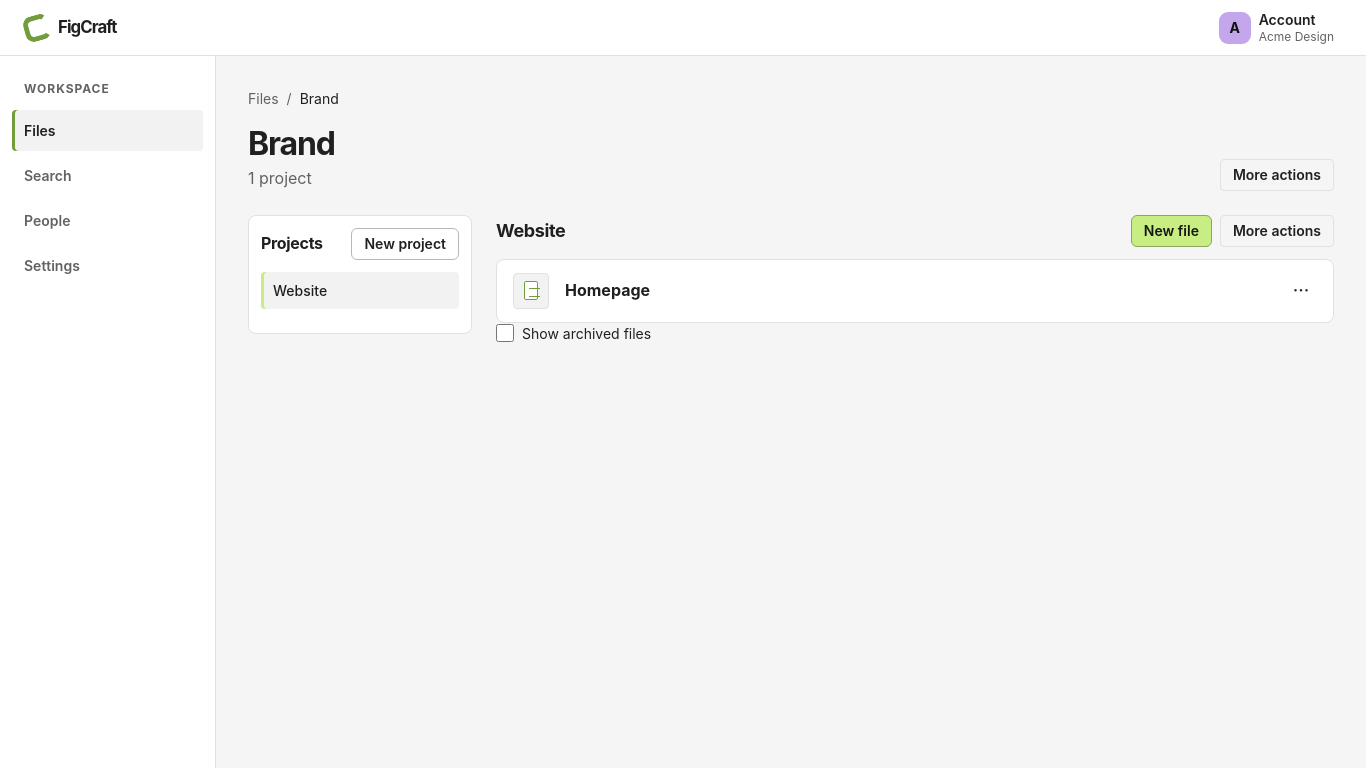
Scenario: workspace page › shows projects and the files of the first one, with actions for an administrator
Expected: the heading "Brand" is shown, [248,125,339,163]
Click the heading named "More actions for Homepage" at (1301, 290), box [1293,278,1309,302]
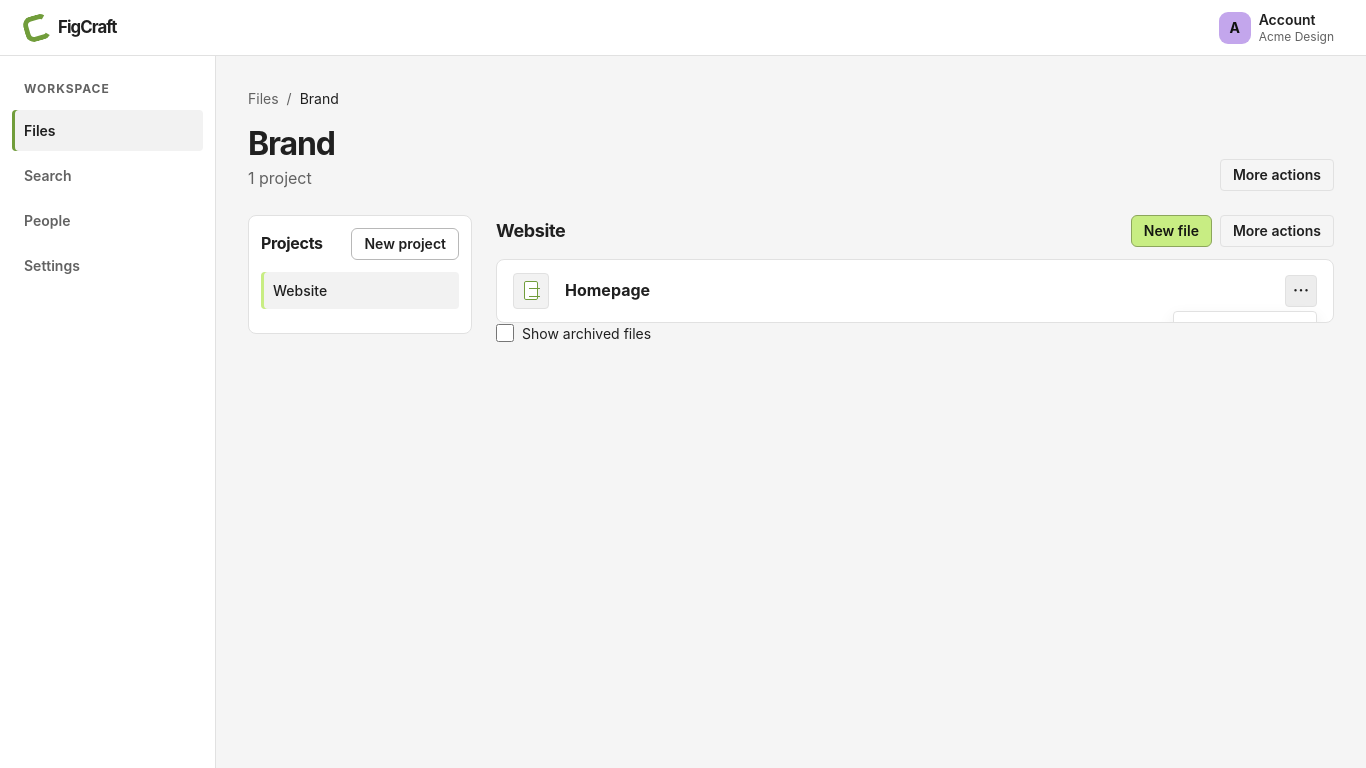
Click the heading named "Workspace actions" at (1277, 175), box [1220,159,1334,191]
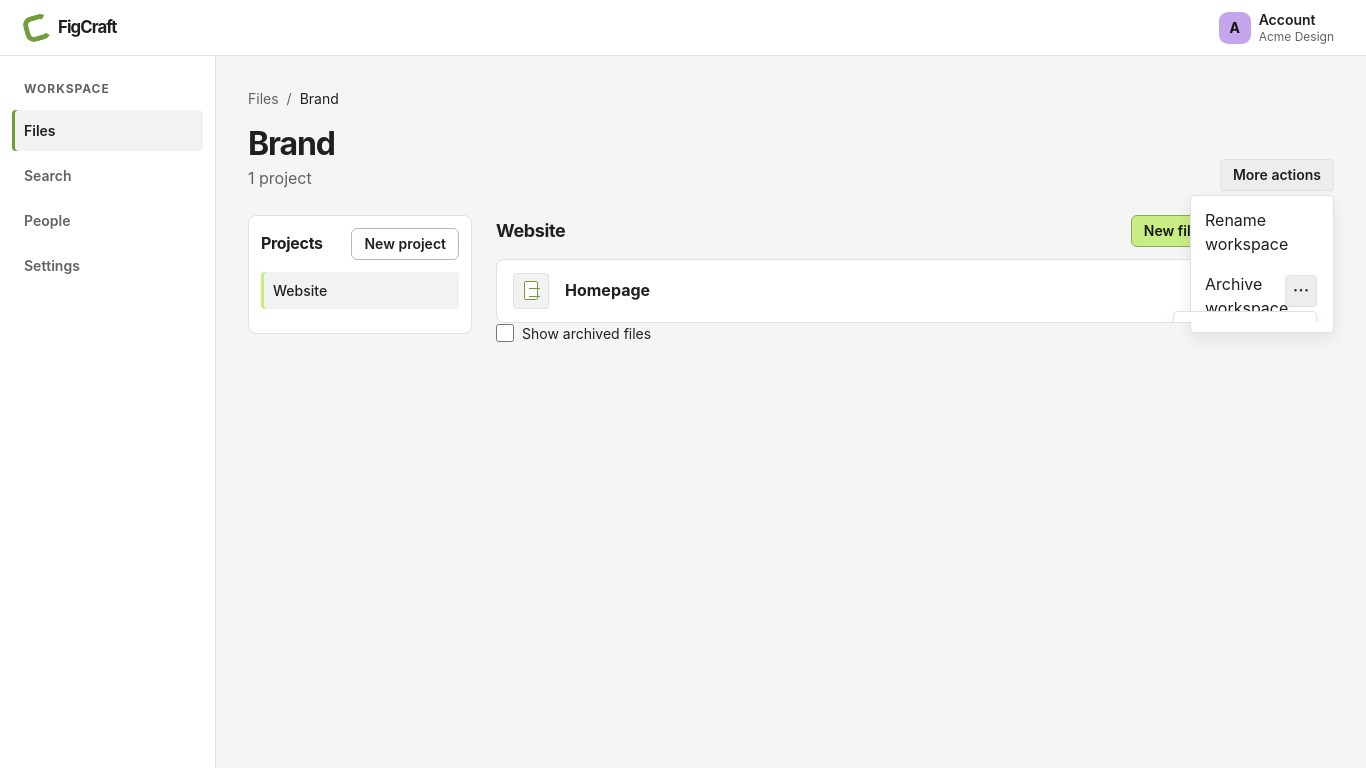
Expected: the button "New file" is shown, [1131,215,1212,247]
Expected: the button "Rename workspace" is shown, [1195,200,1329,264]
